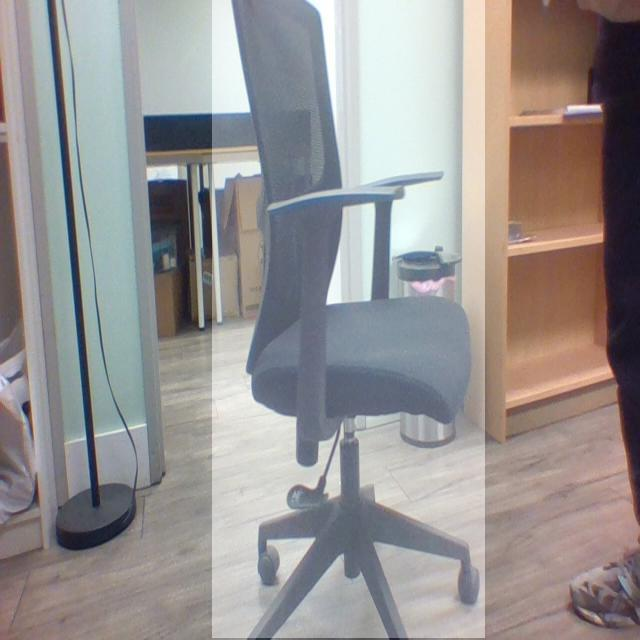chair: (207, 0, 484, 640)
